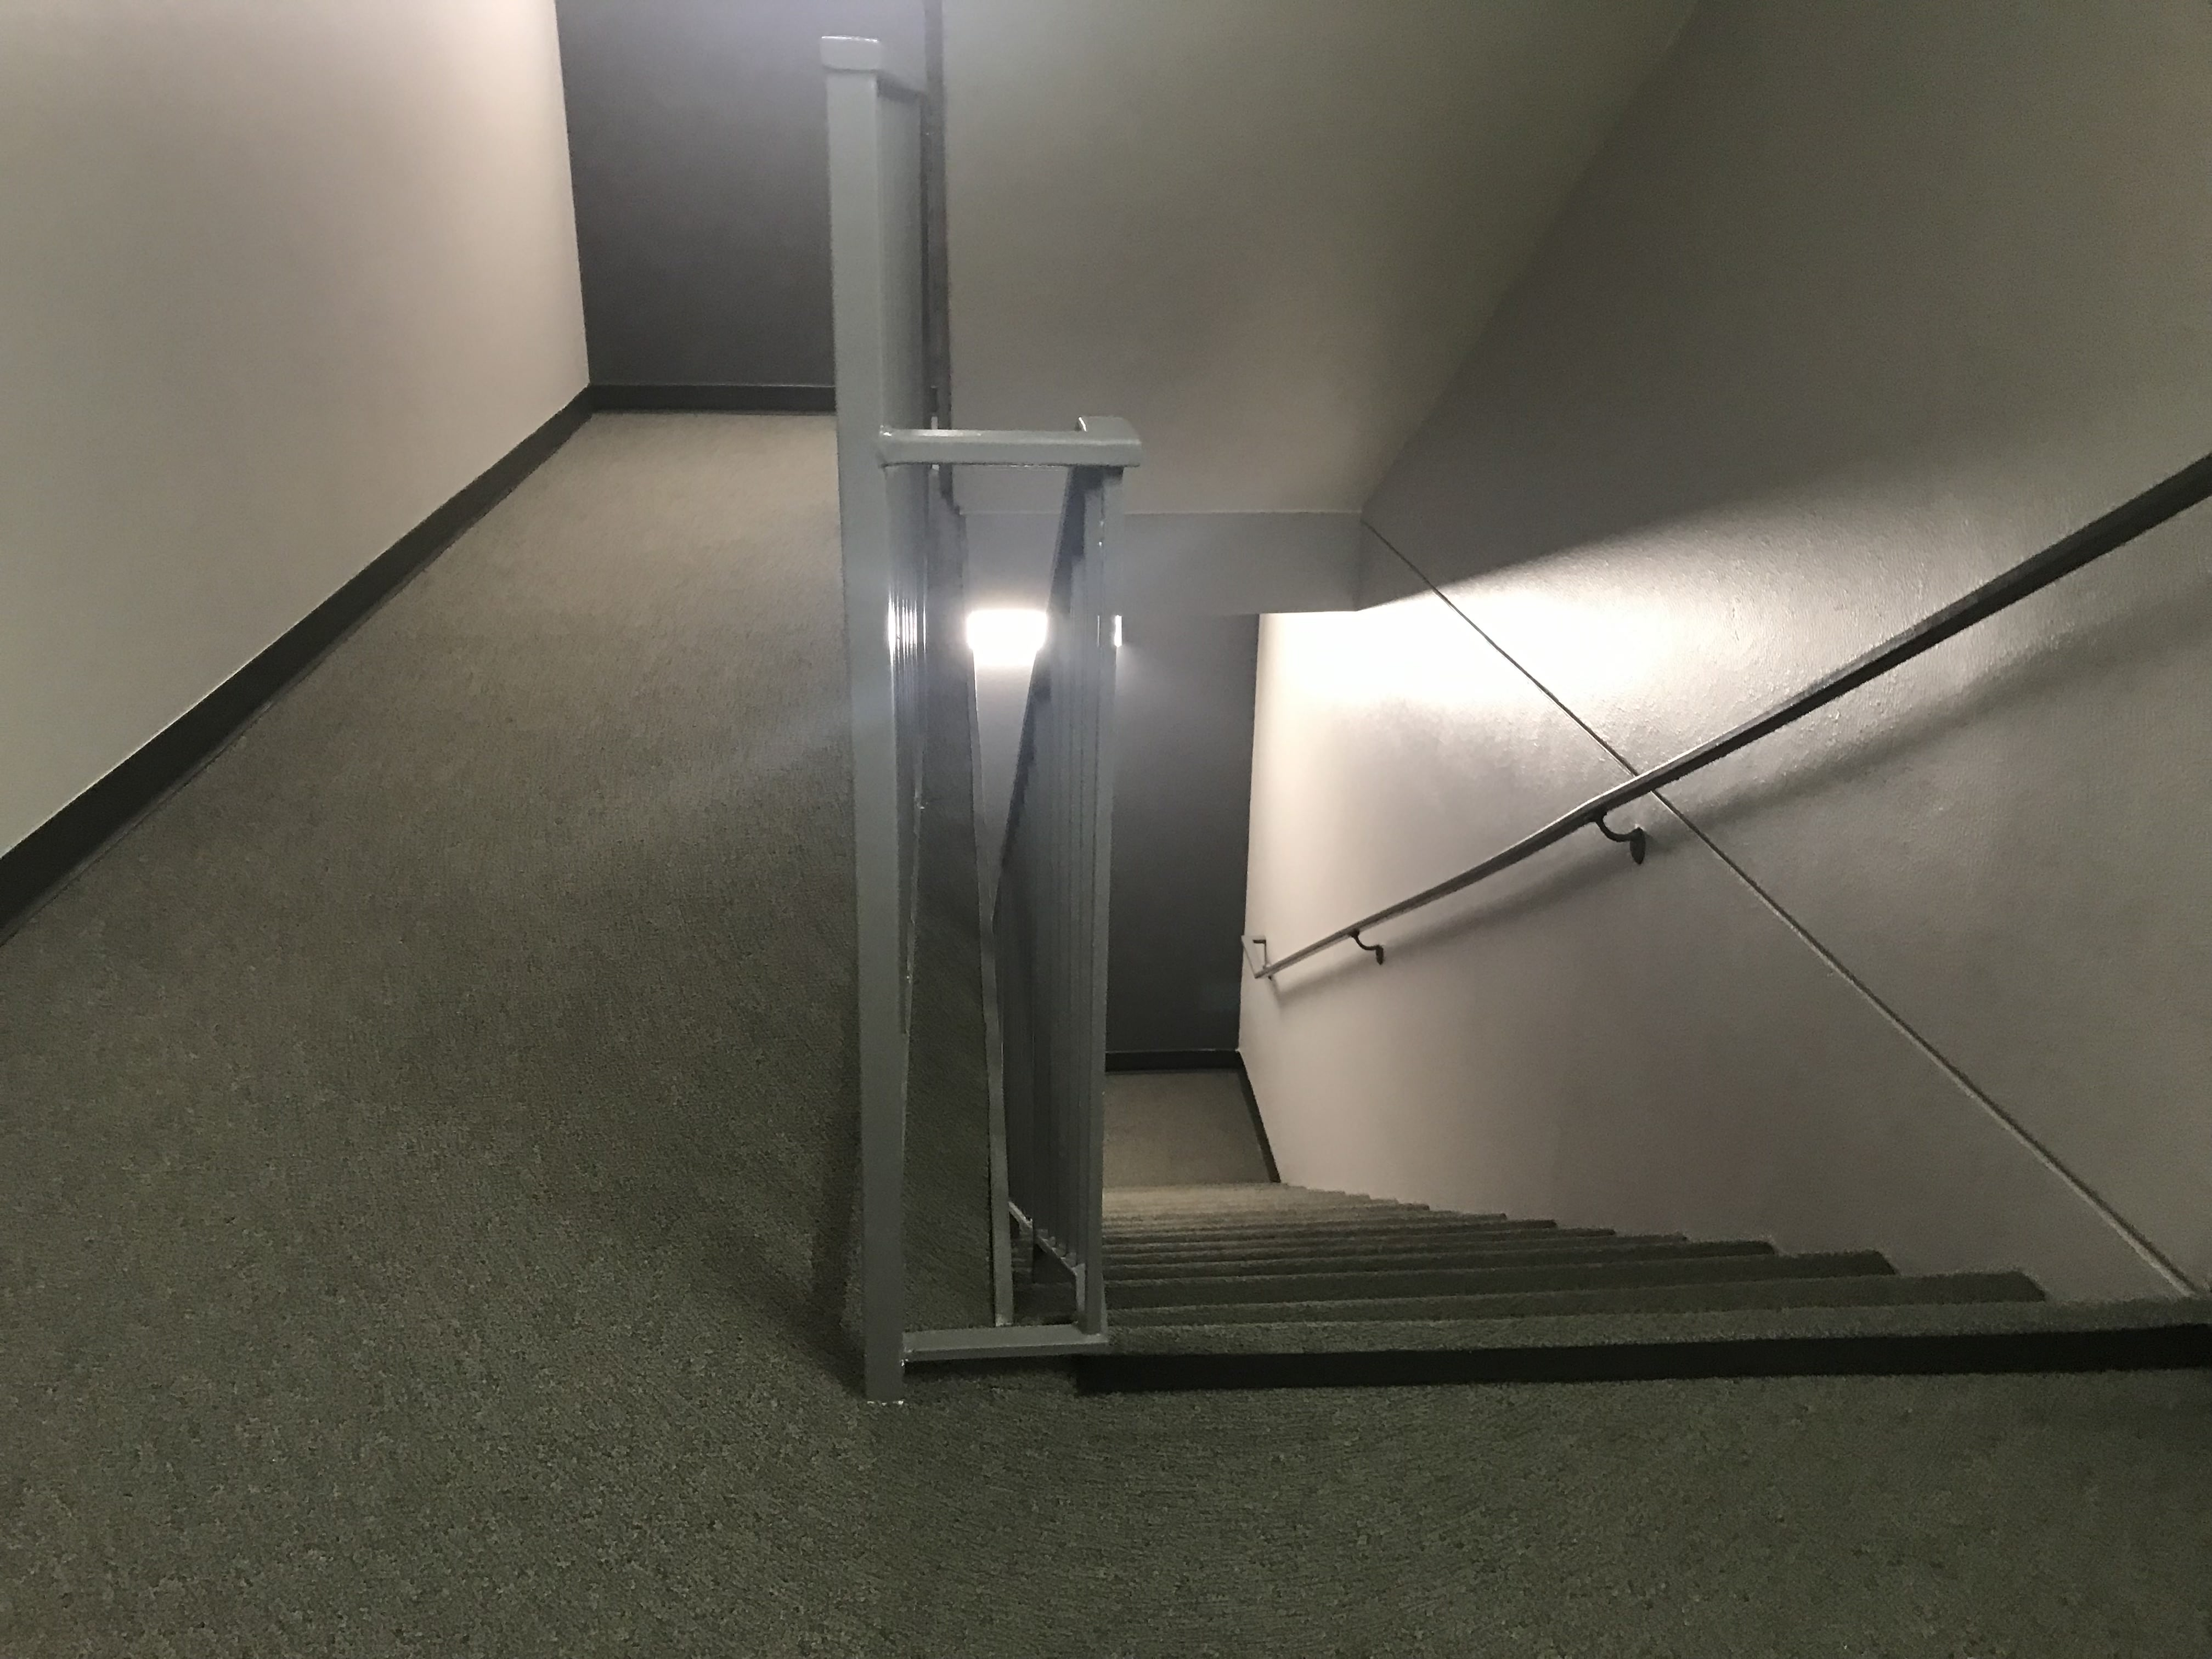Edge: (1094, 1321, 2196, 1349)
Obstacle: (7, 5, 587, 938), (819, 37, 1094, 1335)
Pothole: (1094, 1321, 2196, 1349)
